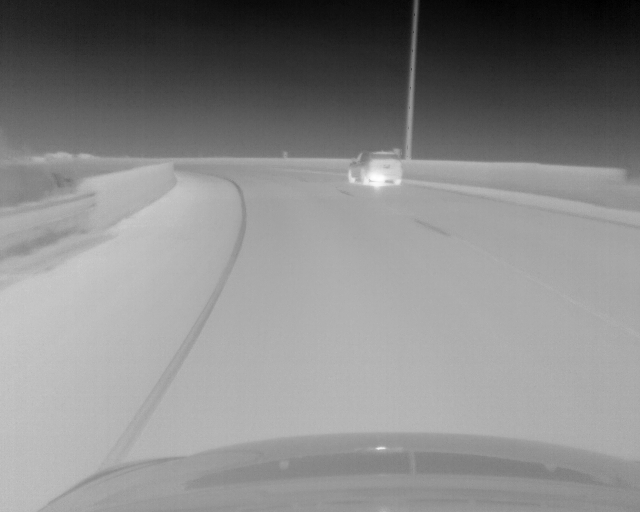car: (347, 150, 403, 186)
